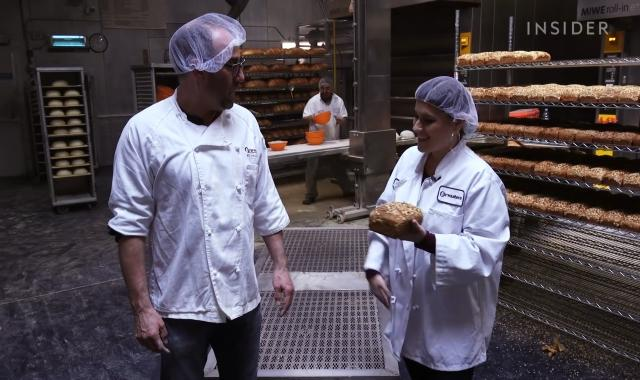hairnet: (167, 12, 249, 76), (412, 77, 480, 123)
